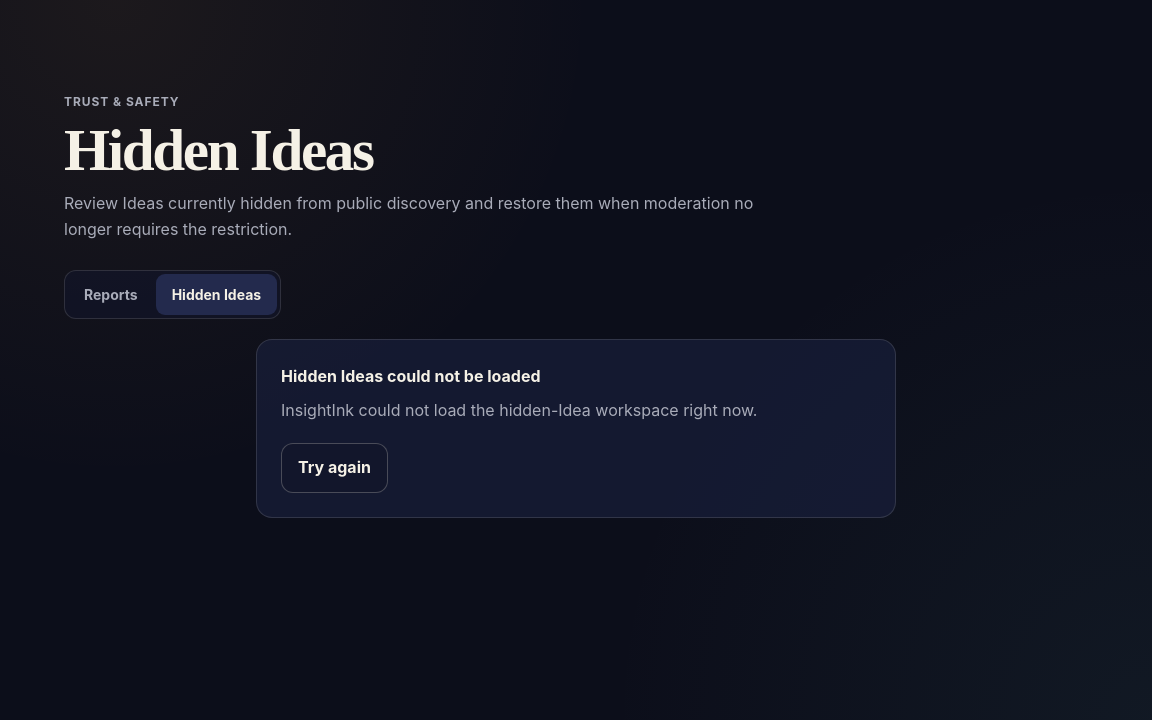
Test: HiddenIdeasPage › renders a retryable load error and an empty workspace
Expected: the message shows "Hidden Ideas could not be loaded", [281,366,541,386]
Click the button "Try again": click(334, 468) [281,444,388,493]
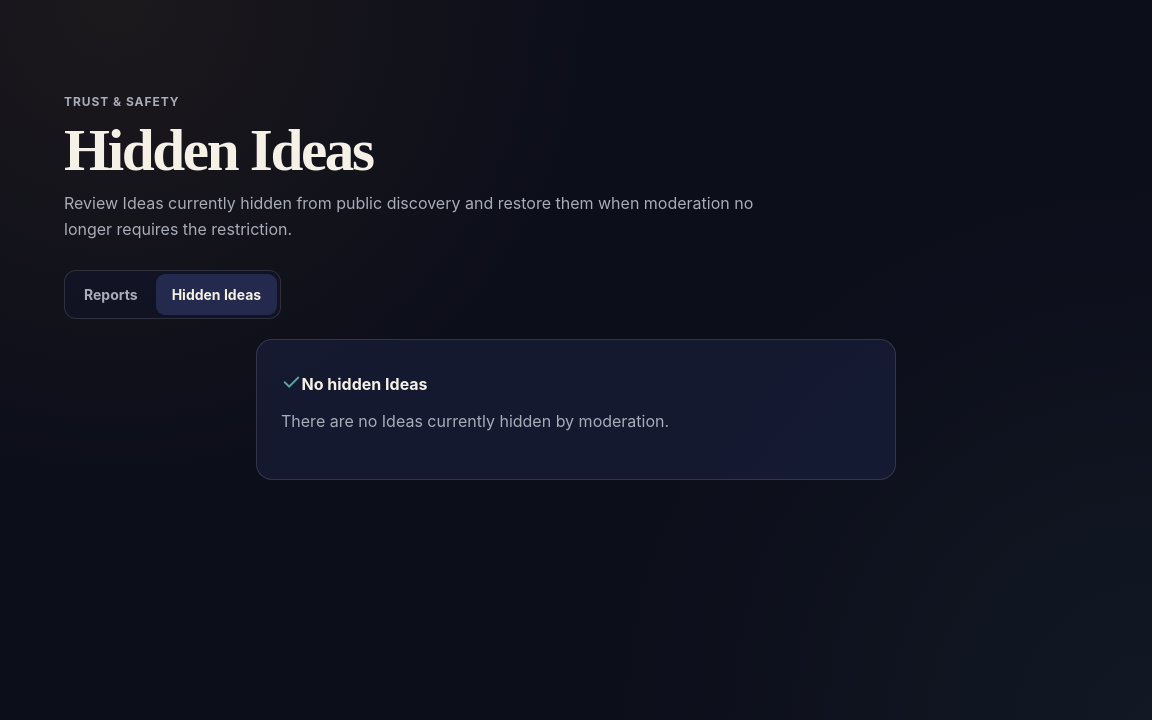
Now the text "No hidden Ideas" is shown, box [302,374,428,394]
